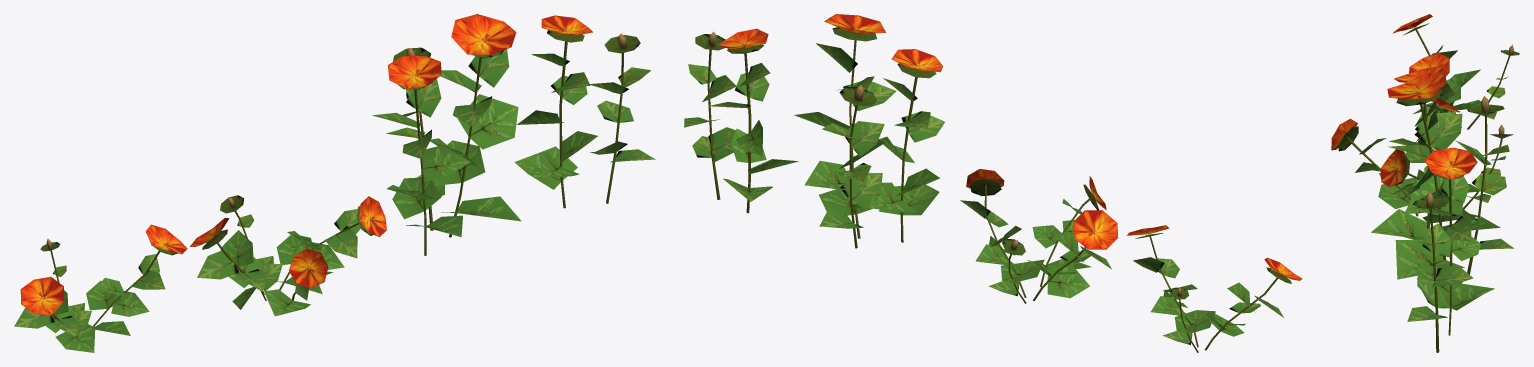
The model's file is Cosmos sulphureus.FBX.
The picture shows the model from 3 angles, left to right: view 1: azimuth 30°, elevation 25°; view 2: azimuth 150°, elevation 25°; view 3: azimuth 270°, elevation 25°; orthographic projection. The views are drawn at different scales.
Visible parts, largest first — view 1: Cosmos sulphureus03, Cosmos sulphureus02, Cosmos sulphureus04, Cosmos sulphureus01; view 2: Cosmos sulphureus03, Cosmos sulphureus02, Cosmos sulphureus04, Cosmos sulphureus01; view 3: Cosmos sulphureus03, Cosmos sulphureus04, Cosmos sulphureus02, Cosmos sulphureus01.
Part boxes in pixels (x1=…): Cosmos sulphureus03: x1=372, y1=14, x2=521, y2=255; Cosmos sulphureus02: x1=190, y1=195, x2=386, y2=316; Cosmos sulphureus04: x1=514, y1=15, x2=655, y2=208; Cosmos sulphureus01: x1=14, y1=224, x2=187, y2=352; Cosmos sulphureus03: x1=794, y1=14, x2=944, y2=248; Cosmos sulphureus02: x1=960, y1=169, x2=1118, y2=303; Cosmos sulphureus04: x1=684, y1=28, x2=798, y2=213; Cosmos sulphureus01: x1=1126, y1=225, x2=1302, y2=352; Cosmos sulphureus03: x1=1371, y1=66, x2=1513, y2=279; Cosmos sulphureus04: x1=1407, y1=147, x2=1494, y2=352; Cosmos sulphureus02: x1=1331, y1=98, x2=1513, y2=216; Cosmos sulphureus01: x1=1392, y1=14, x2=1519, y2=129.
Bounding box in the file's own units: 166 × 59.79 × 44.01.
